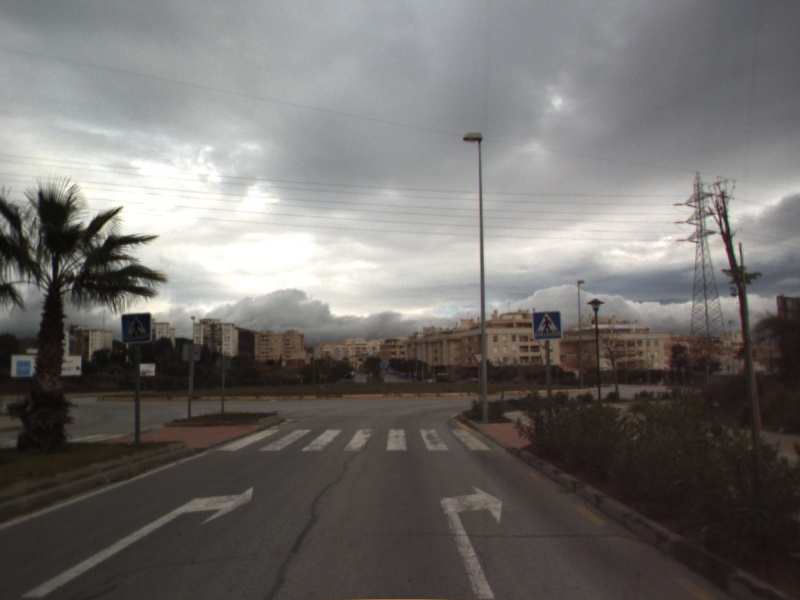RIGHT: (19, 483, 256, 599), (438, 484, 505, 600)
